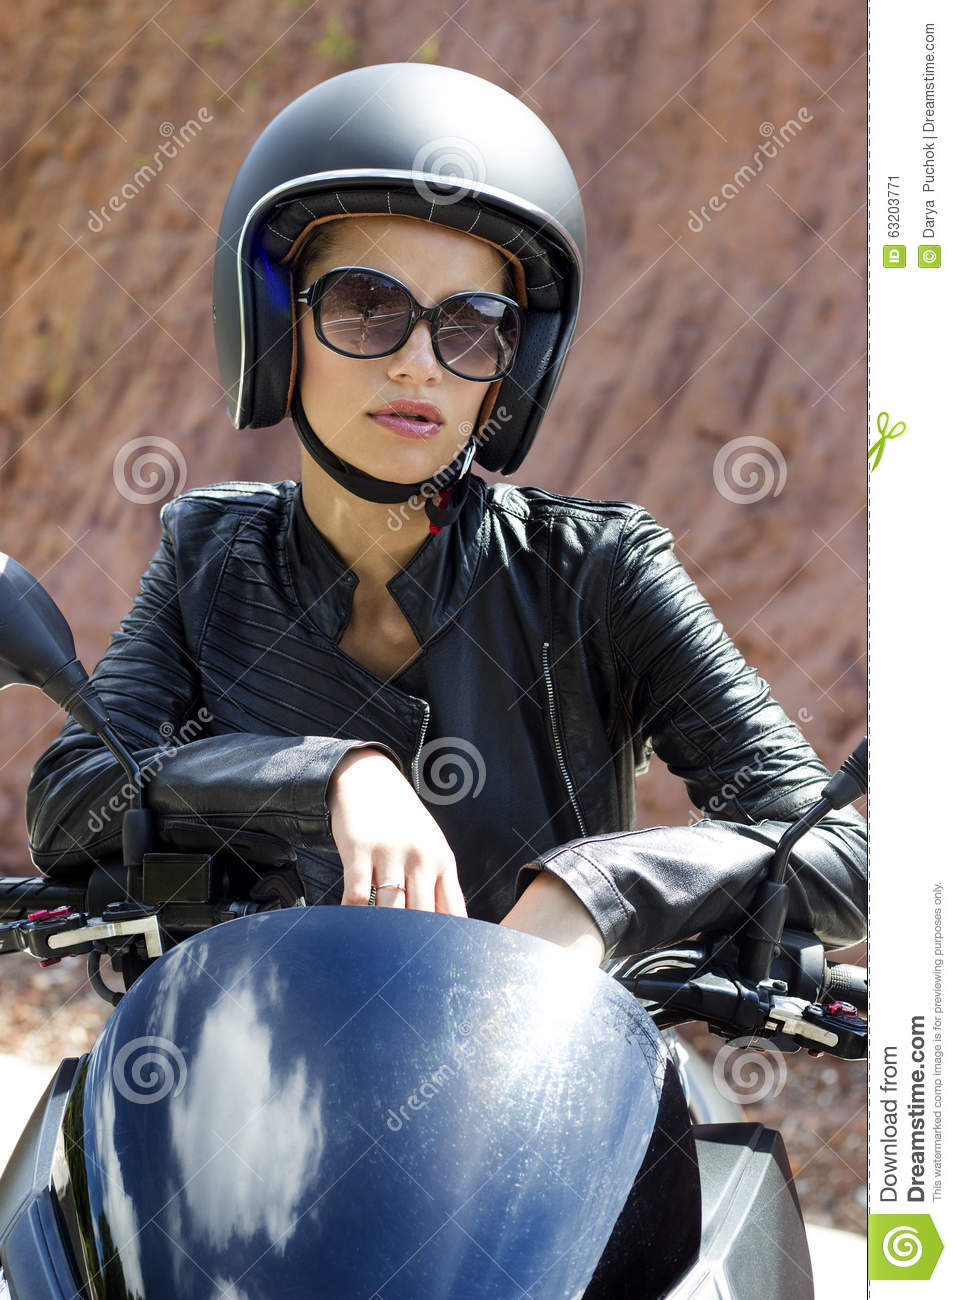helmet: (188, 71, 594, 405)
